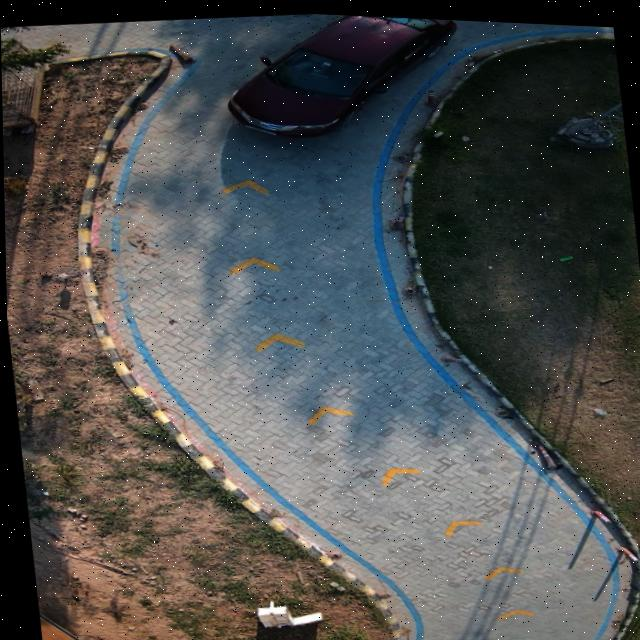car: (229, 12, 454, 133)
